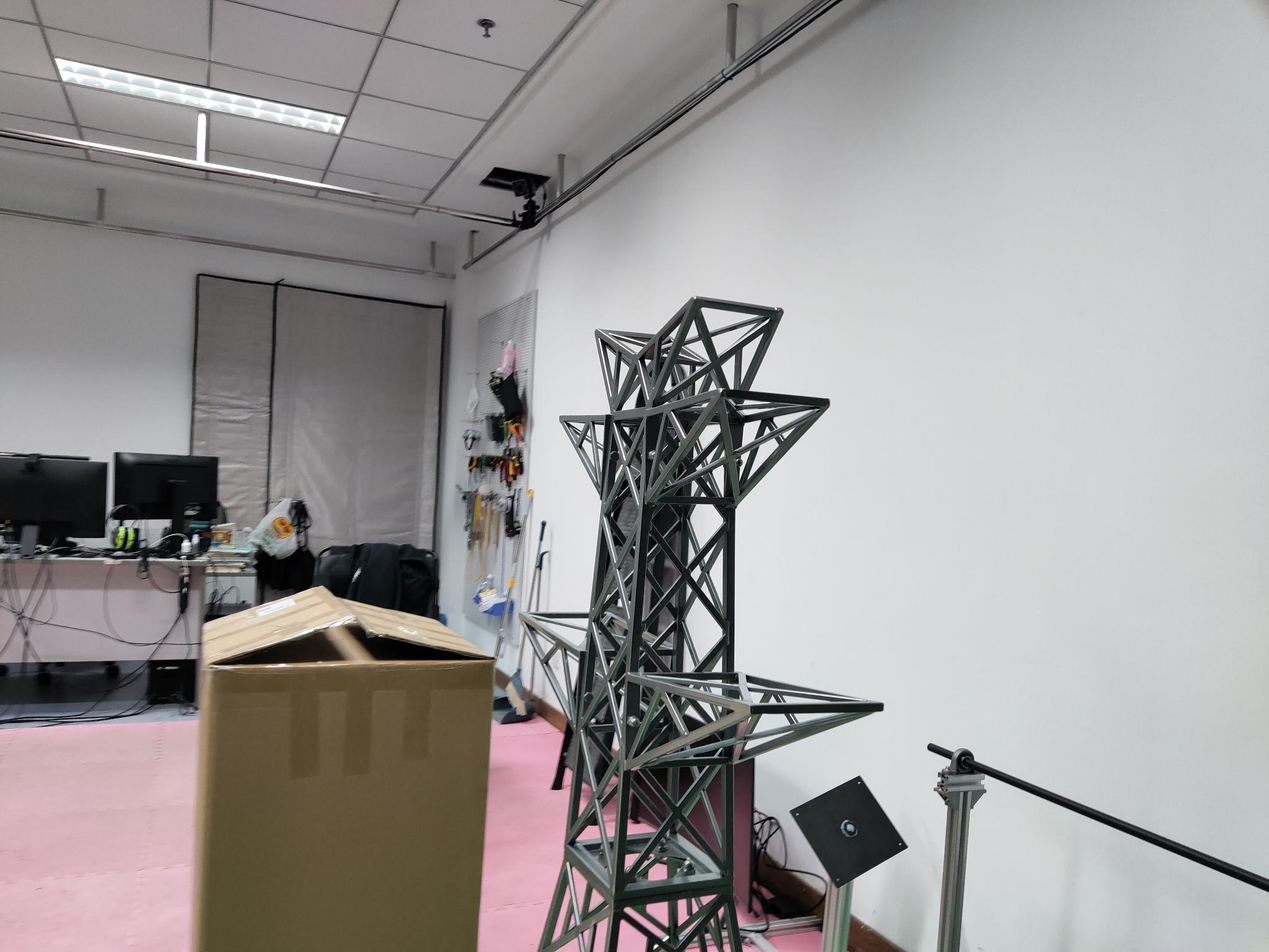tower: (523, 297, 893, 952)
